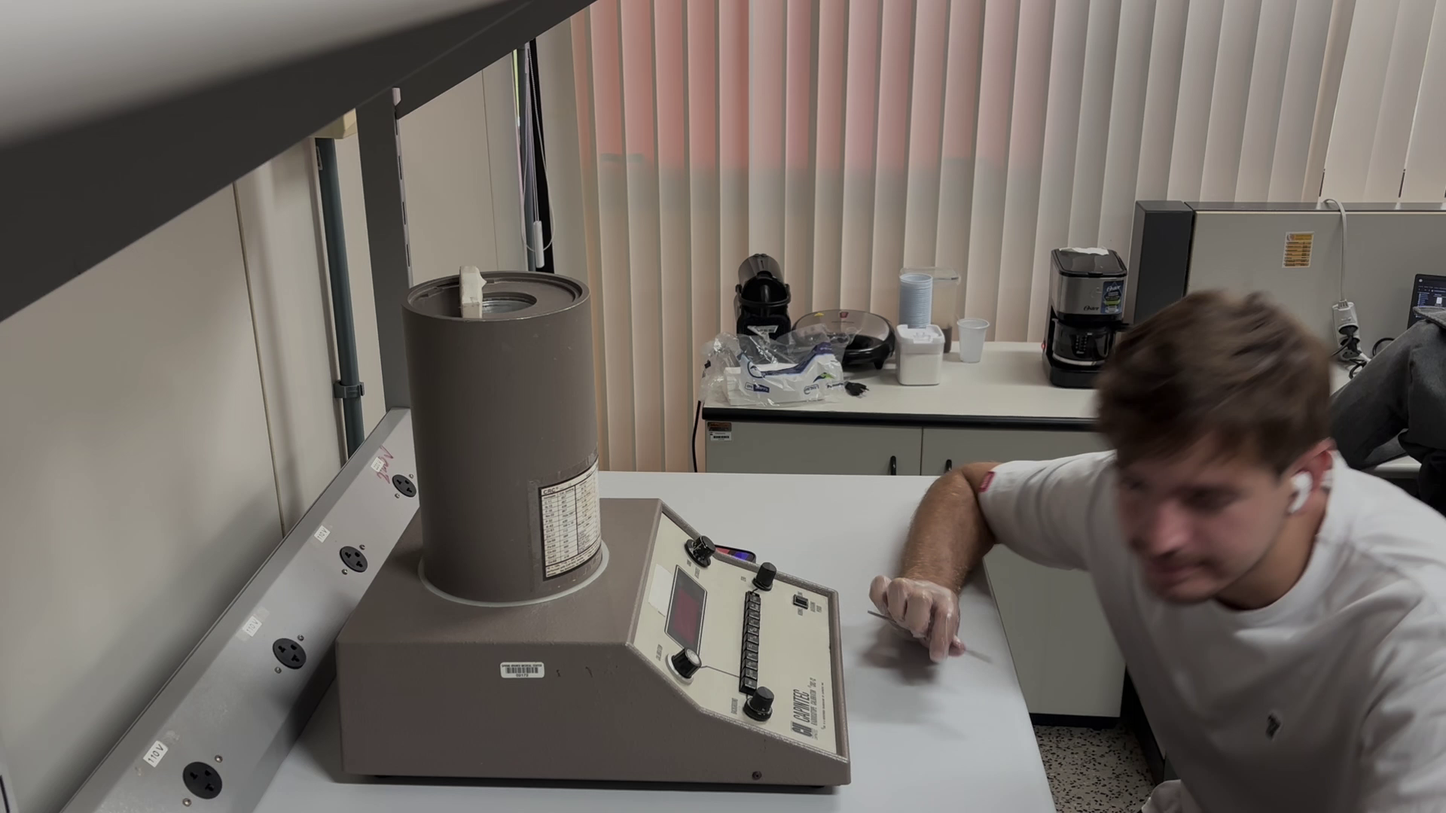Ativimetro: (398, 267, 609, 606)
Com_Luva: (868, 567, 966, 667)
